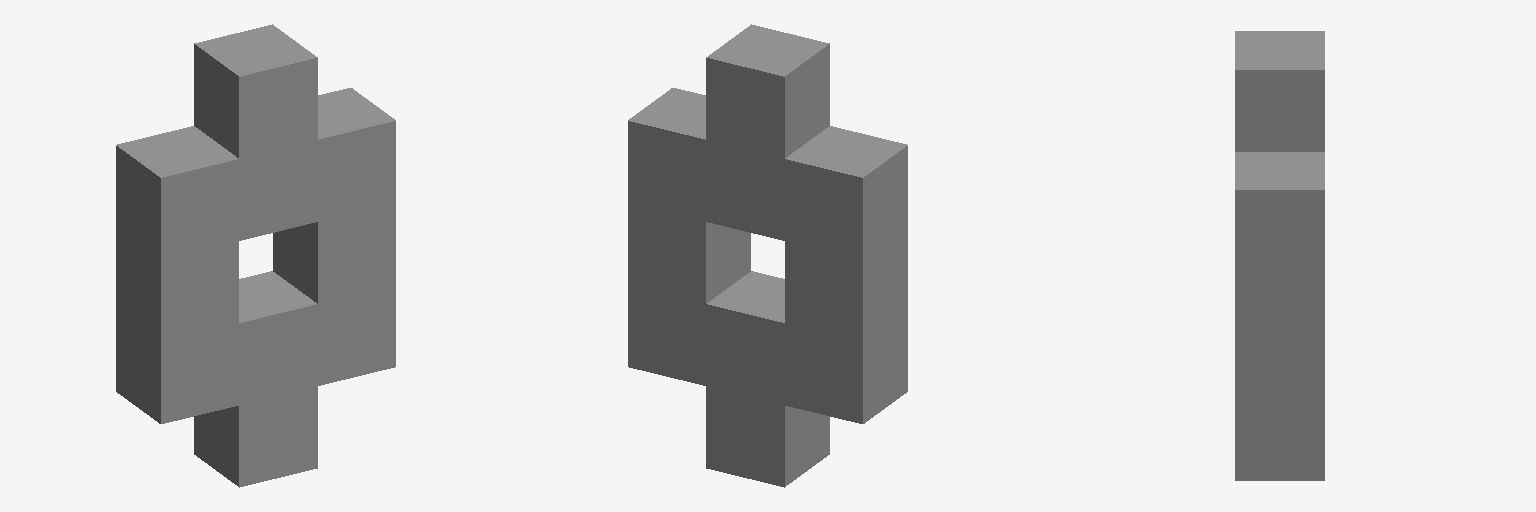
3 views of the same model, side by side, from view 1: azimuth 30°, elevation 25°; view 2: azimuth 150°, elevation 25°; view 3: azimuth 270°, elevation 25° (orthographic).
Visible parts, largest first — view 1: IronKey; view 2: IronKey; view 3: IronKey.
Boxes of the visible parts, x1=… form: IronKey: x1=116, y1=24, x2=395, y2=487; IronKey: x1=628, y1=24, x2=907, y2=487; IronKey: x1=1235, y1=31, x2=1324, y2=480.
Bounding box in the file's own units: 3 × 5 × 1.
Materials: 1 (1 with a texture image).